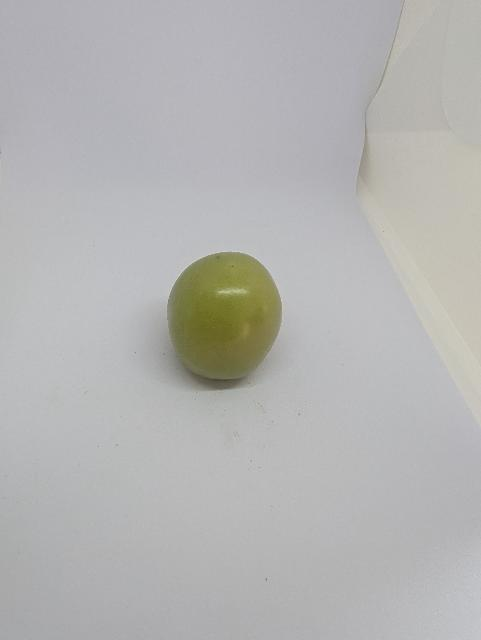green: (160, 237, 291, 400)
